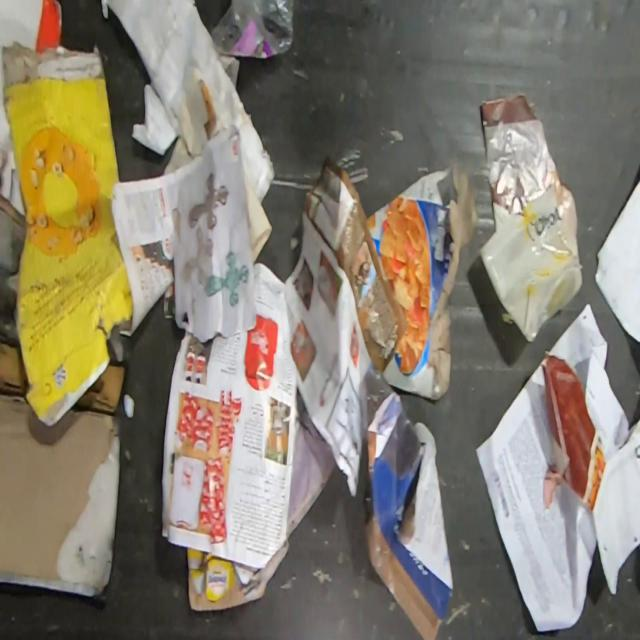cardboard: (0, 39, 134, 428), (366, 161, 480, 401), (0, 393, 122, 599), (186, 538, 291, 611), (75, 364, 127, 412), (0, 341, 29, 397)
rigid_plastic: (478, 171, 584, 343)
soft_plastic: (210, 0, 295, 60)
